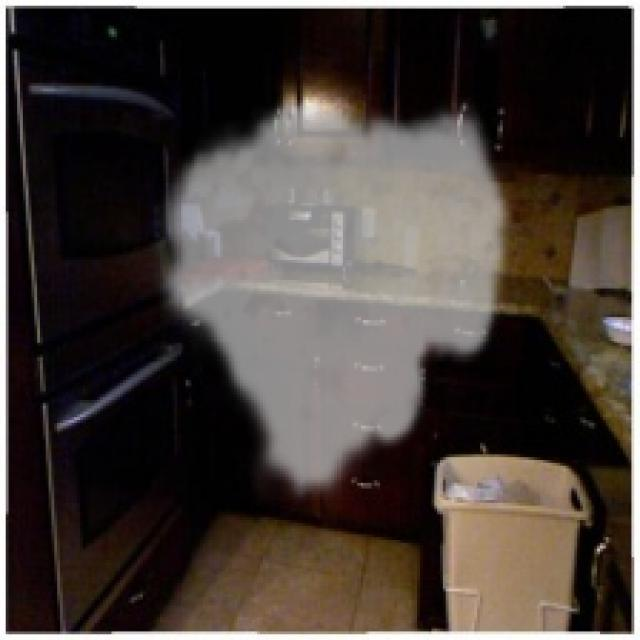Smoke: (152, 94, 514, 506)
